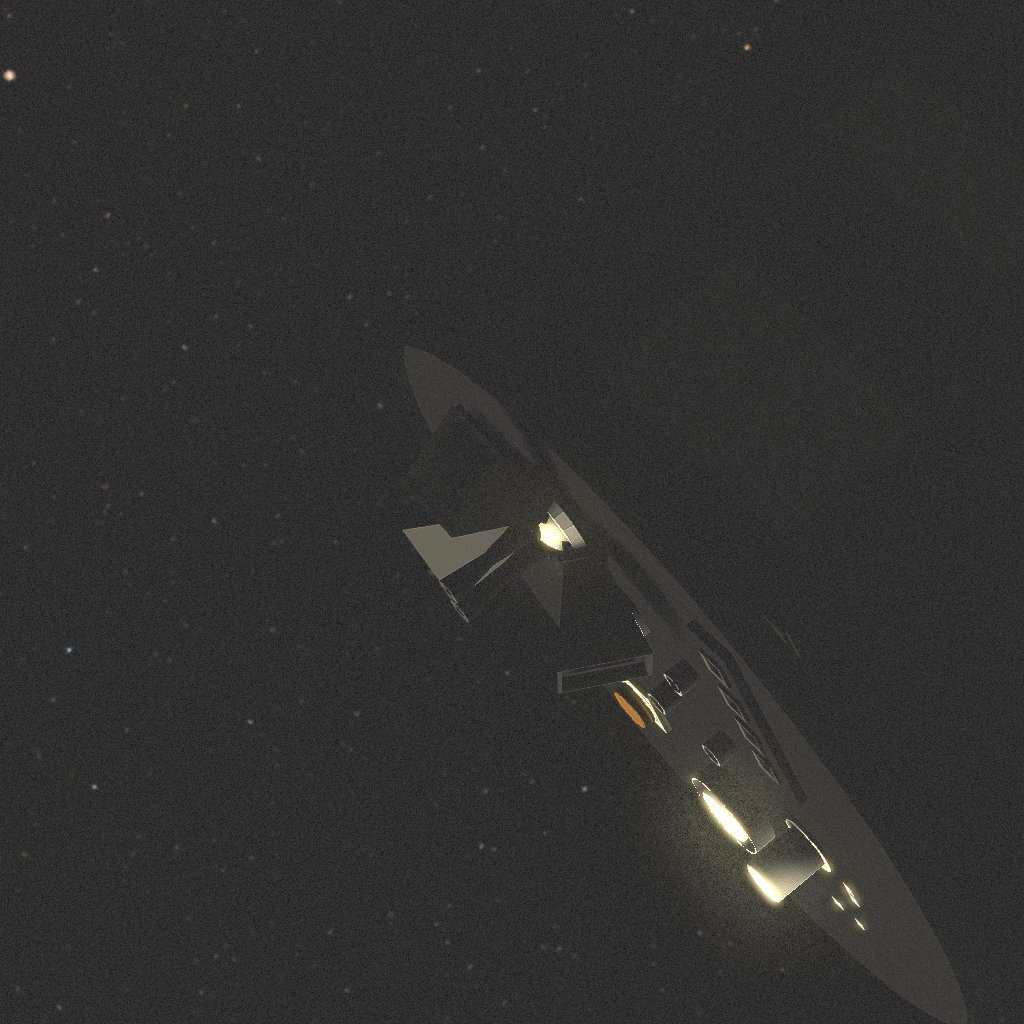proba_3_ocs: (392, 0, 1024, 1024)
